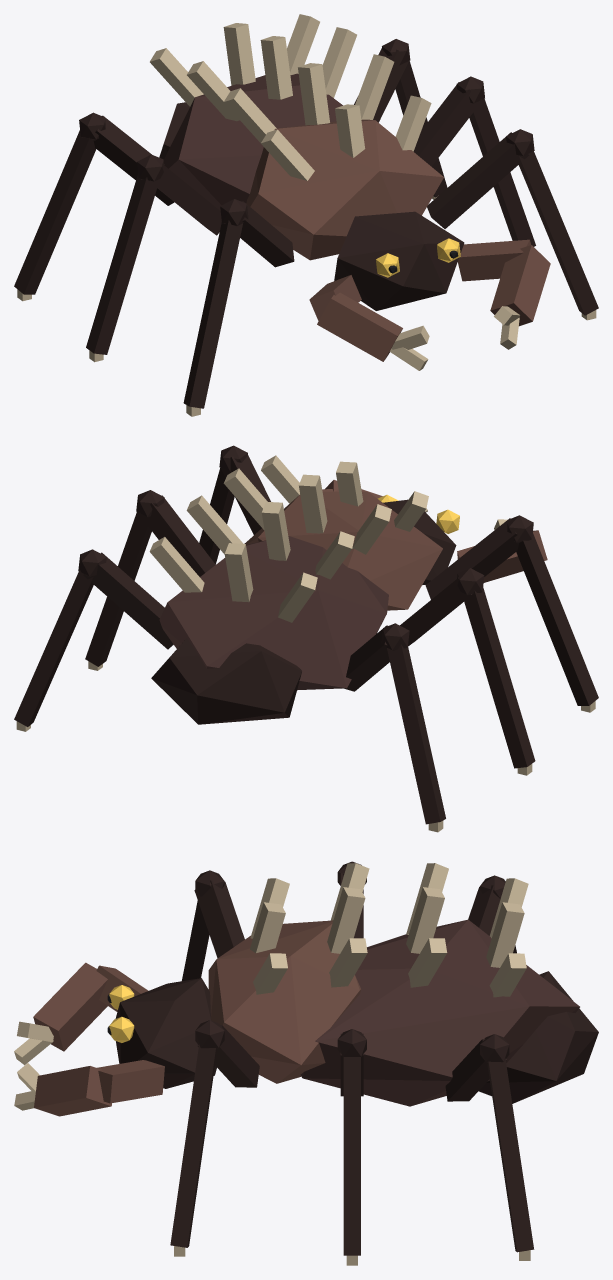
File: ennemi_gardien.glb
3 renders of one model, top to bottom at view 1: azimuth 30°, elevation 25°; view 2: azimuth 150°, elevation 25°; view 3: azimuth 270°, elevation 25°, orthographic. The views are drawn at different scales.
Parts seen in each view (by area): view 1: corps_gardien_clair.002, corps_corne.002, pattes_a_gardien_sombre.002, pattes_b_gardien_sombre.002, corps_gardien.002, corps_gardien_sombre.002, corps_oeil.006; view 2: corps_gardien.002, pattes_a_gardien_sombre.002, pattes_b_gardien_sombre.002, corps_corne.002, corps_gardien_sombre.002, corps_gardien_clair.002, corps_oeil.006; view 3: corps_gardien_clair.002, corps_gardien.002, corps_corne.002, corps_gardien_sombre.002, pattes_b_gardien_sombre.002, pattes_a_gardien_sombre.002, corps_oeil.006.
Boxes of the visible parts, left/top/right/bottom form: corps_gardien_clair.002: left=246, top=119, right=550, bottom=361; corps_corne.002: left=150, top=14, right=520, bottom=370; pattes_a_gardien_sombre.002: left=14, top=76, right=535, bottom=408; pattes_b_gardien_sombre.002: left=86, top=39, right=598, bottom=354; corps_gardien.002: left=163, top=73, right=342, bottom=210; corps_gardien_sombre.002: left=159, top=102, right=464, bottom=310; corps_oeil.006: left=376, top=238, right=460, bottom=277; corps_gardien.002: left=159, top=536, right=388, bottom=690; pattes_a_gardien_sombre.002: left=85, top=490, right=598, bottom=824; pattes_b_gardien_sombre.002: left=14, top=445, right=535, bottom=768; corps_corne.002: left=149, top=455, right=507, bottom=622; corps_gardien_sombre.002: left=151, top=499, right=456, bottom=724; corps_gardien_clair.002: left=244, top=480, right=547, bottom=610; corps_oeil.006: left=377, top=494, right=459, bottom=533; corps_gardien_clair.002: left=33, top=920, right=361, bottom=1116; corps_gardien.002: left=300, top=919, right=579, bottom=1106; corps_corne.002: left=14, top=863, right=528, bottom=1110; corps_gardien_sombre.002: left=115, top=971, right=598, bottom=1103; pattes_b_gardien_sombre.002: left=170, top=861, right=534, bottom=1252; pattes_a_gardien_sombre.002: left=182, top=870, right=516, bottom=1255; corps_oeil.006: left=109, top=985, right=134, bottom=1042.
Bounding box in the file's own units: 1.31 × 0.6871 × 1.4.
